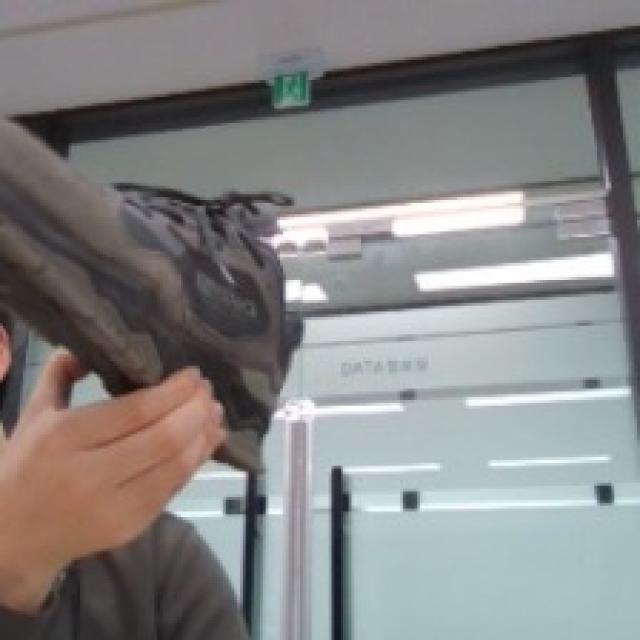shoe: (22, 122, 328, 460)
